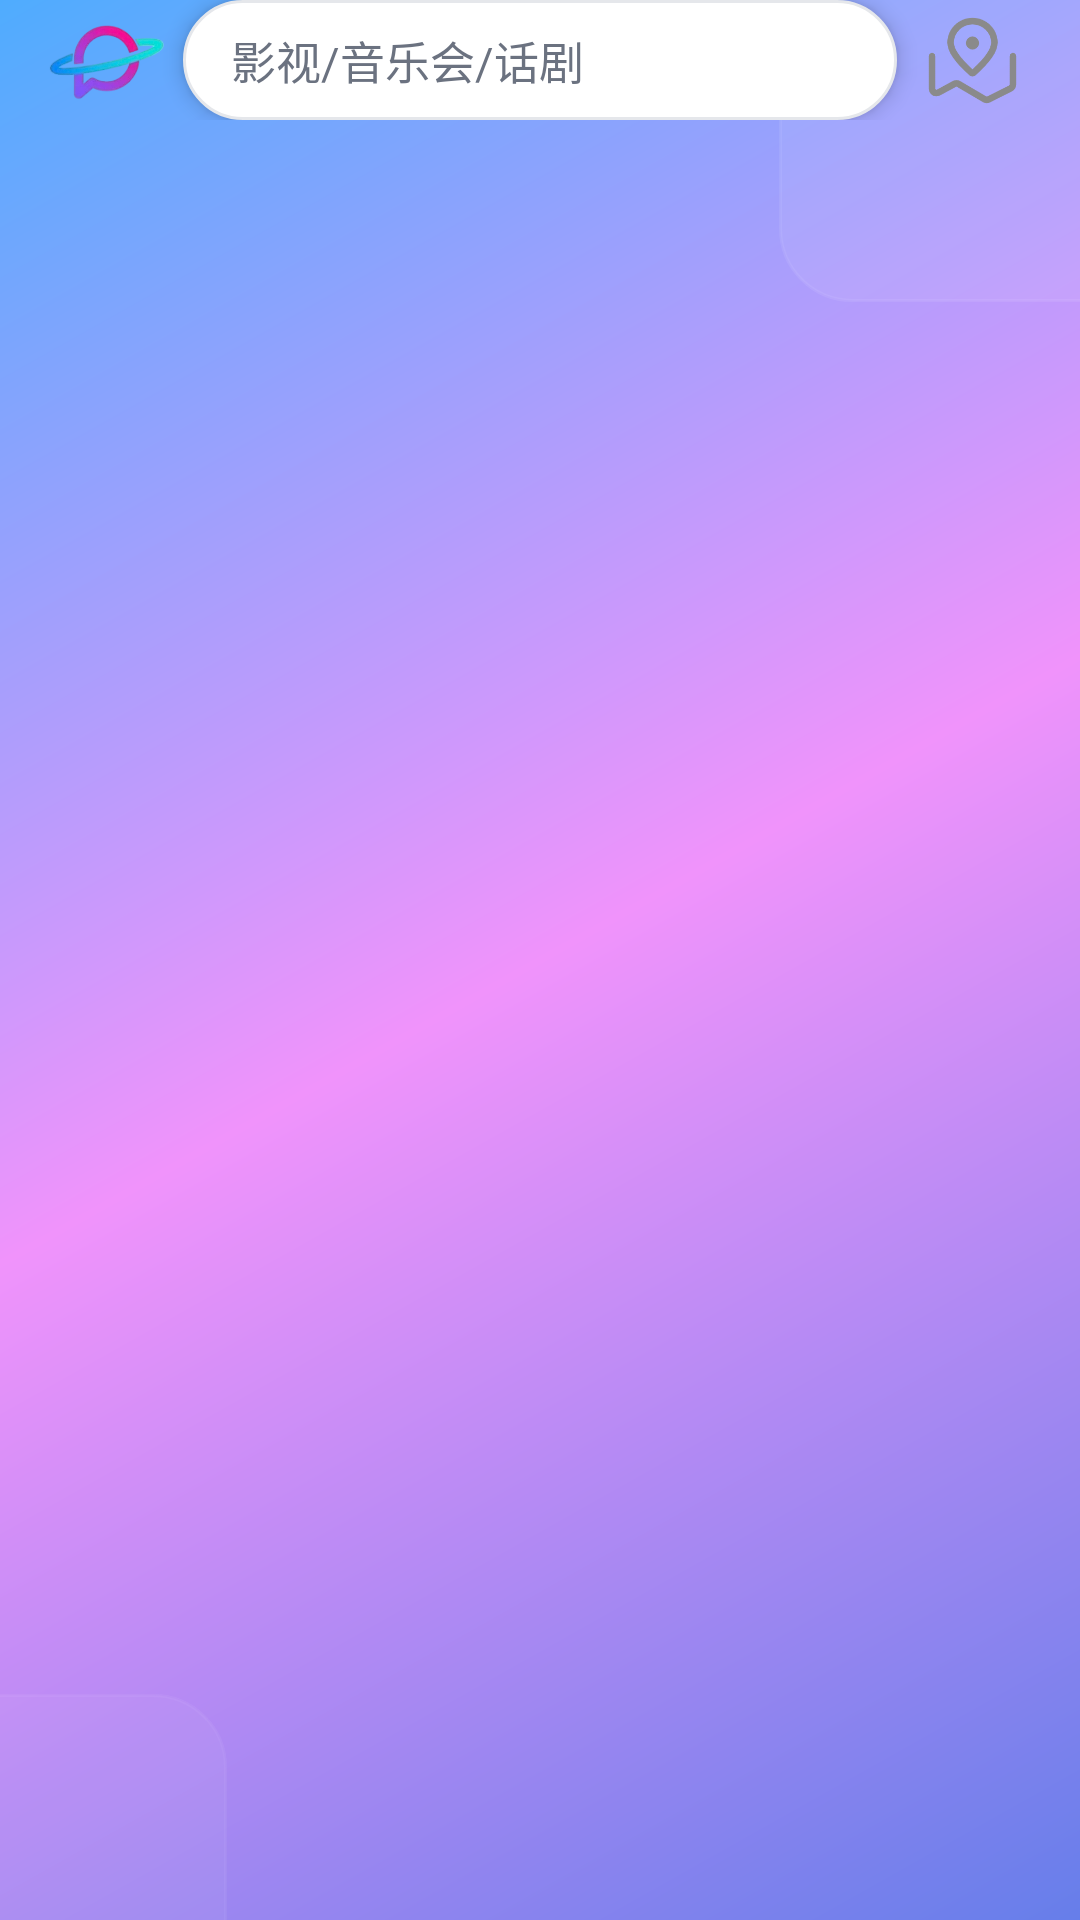

Icons on this 1080px x 1920px Android screen, each with the point to tap as point (x, y):
location: point (972, 60)
